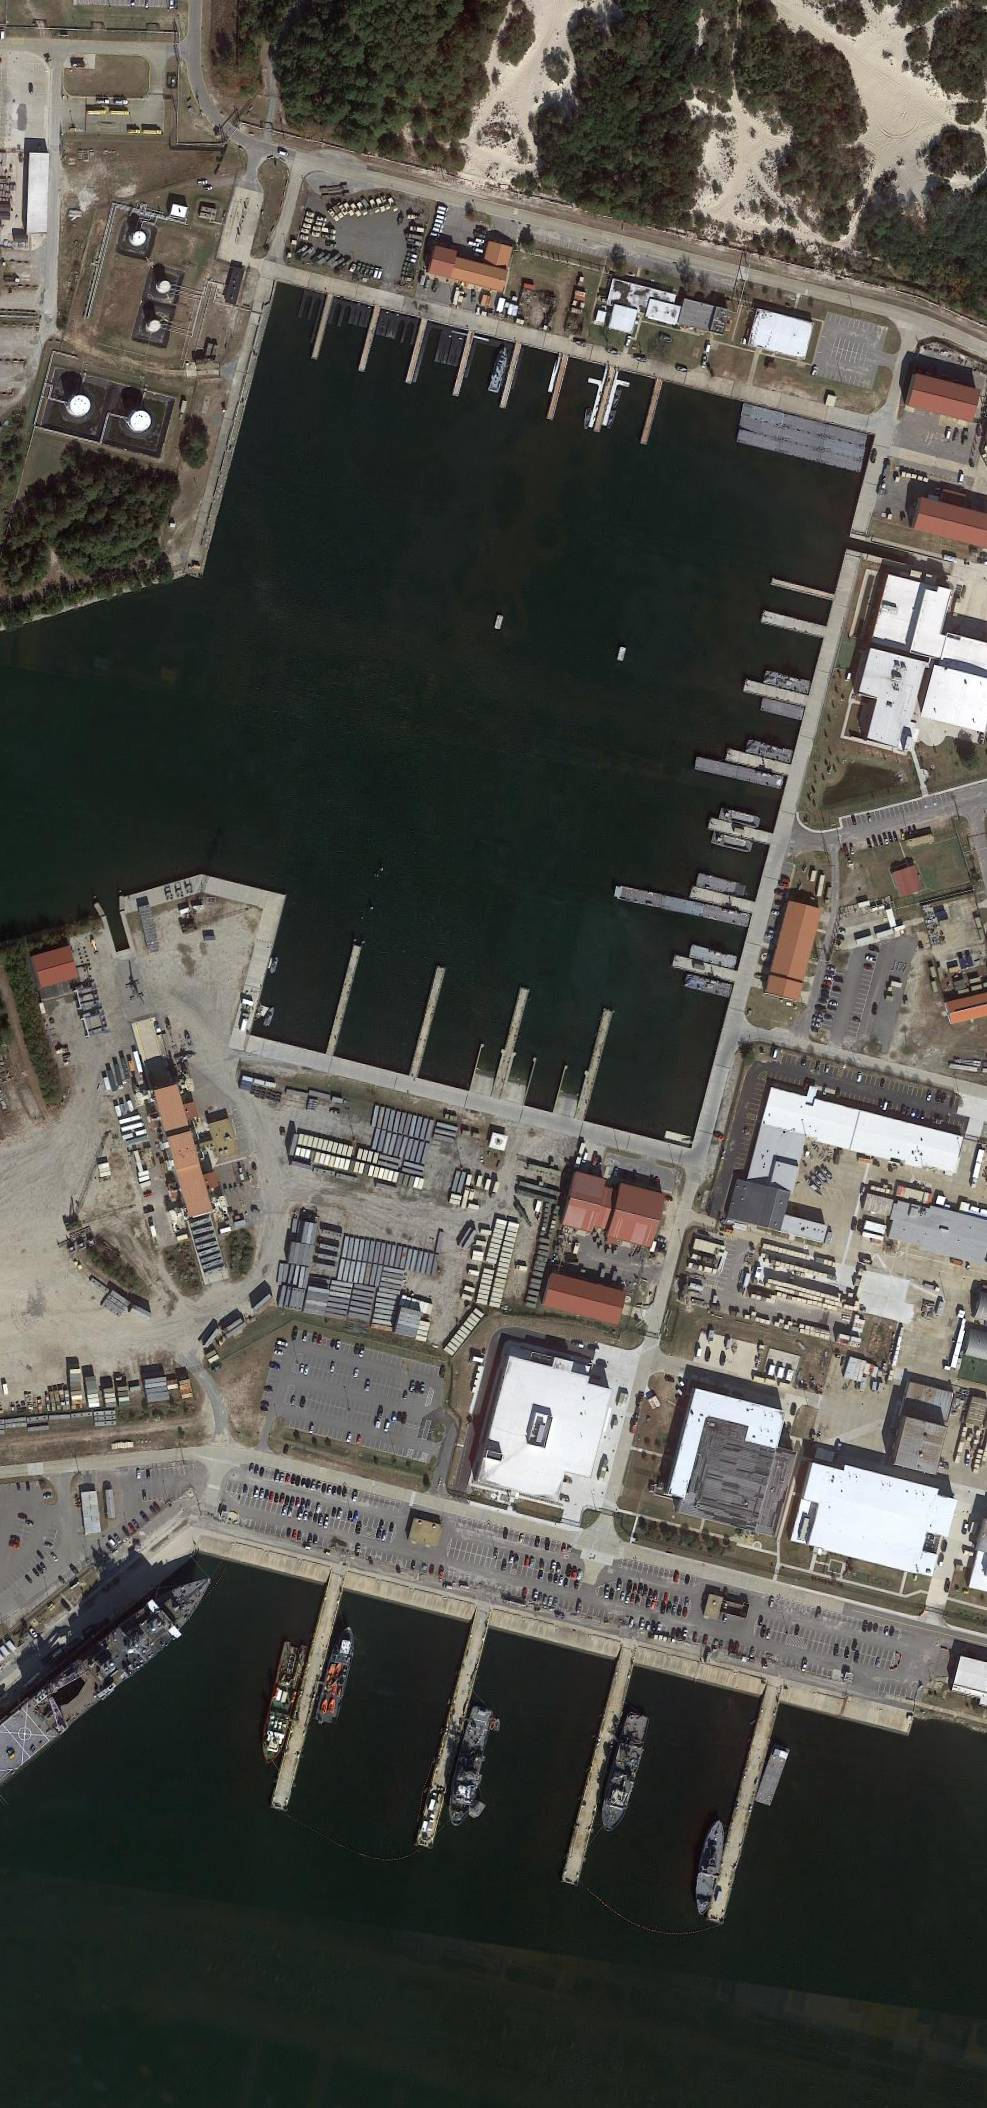harbor: (414, 1609, 492, 1850), (560, 1646, 638, 1886), (270, 1570, 347, 1812), (707, 1683, 784, 1924), (574, 1008, 615, 1121), (491, 986, 531, 1100), (408, 966, 447, 1077), (325, 944, 362, 1056), (761, 609, 827, 639), (672, 954, 738, 984), (742, 679, 809, 708), (725, 748, 792, 777), (689, 886, 756, 915), (709, 818, 773, 846), (499, 343, 524, 410), (546, 354, 570, 422), (640, 379, 664, 446), (452, 330, 476, 397), (311, 294, 335, 360), (770, 577, 834, 601), (593, 369, 617, 433), (406, 318, 429, 384), (359, 307, 382, 372)
ship: (1, 1562, 223, 1790), (596, 1711, 651, 1834), (441, 1705, 495, 1829), (257, 1641, 309, 1765), (614, 884, 751, 928), (312, 1624, 361, 1724), (690, 1816, 728, 1916), (694, 756, 784, 790), (754, 1742, 791, 1807), (696, 872, 748, 898), (684, 973, 733, 999), (746, 738, 794, 764), (689, 944, 738, 969), (763, 670, 812, 694), (760, 697, 805, 722), (488, 346, 510, 394), (711, 832, 754, 854), (719, 807, 762, 829)
storage tank: (67, 395, 92, 417), (128, 410, 151, 433), (129, 231, 148, 247), (157, 280, 172, 295), (147, 319, 161, 333)
